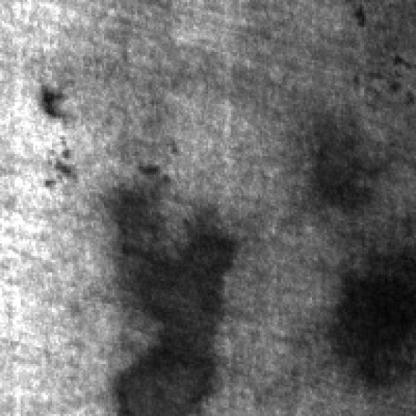patches: (108, 168, 250, 414), (335, 231, 416, 387), (308, 108, 389, 208)
